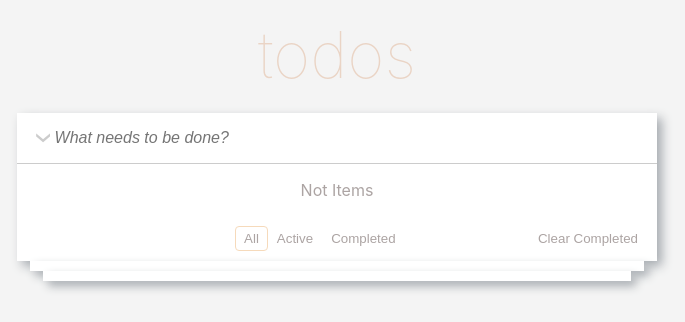
Scenario: todo list › add todo item
Step 1. Type "task1" into the field with test id "addFormInput" → (351, 138), box [44,118,657,156]
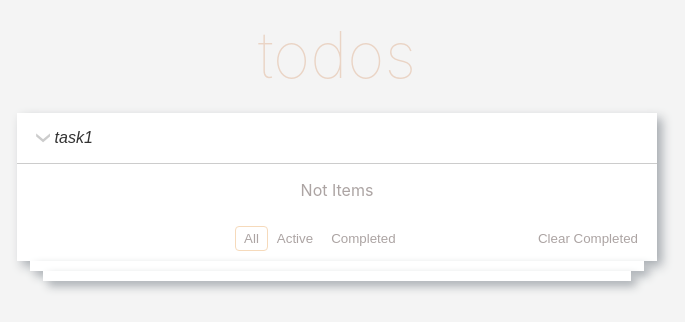
Step 2. Submit the form with test id "addForm", box [17,112,657,164]
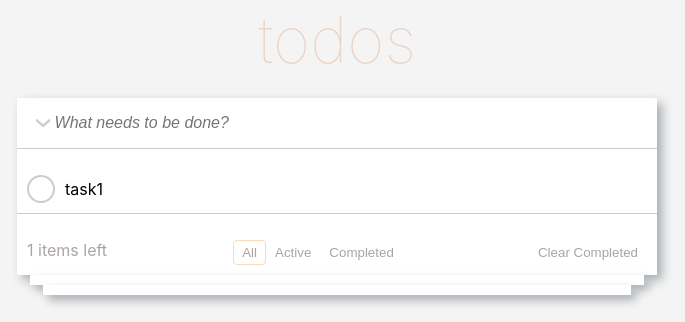
Expected: the text "task1" is shown, [65,179,103,199]
